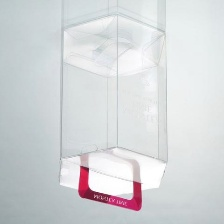plastic_box: (51, 9, 175, 217)
